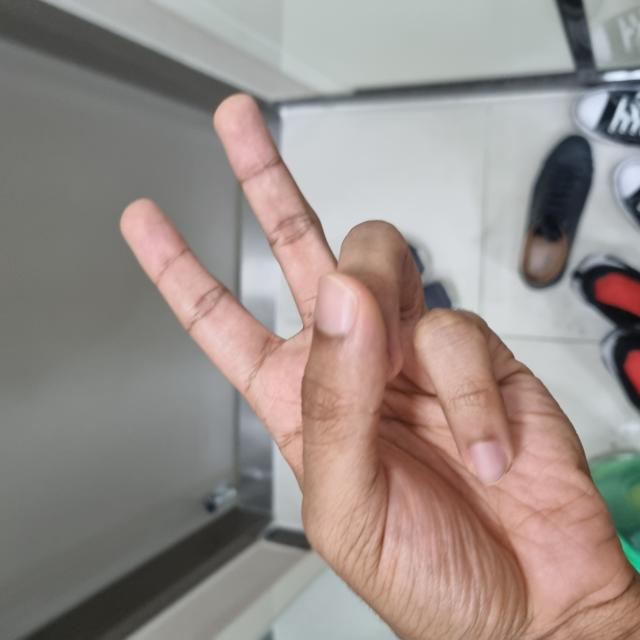Scissors: (1, 122, 541, 632)
